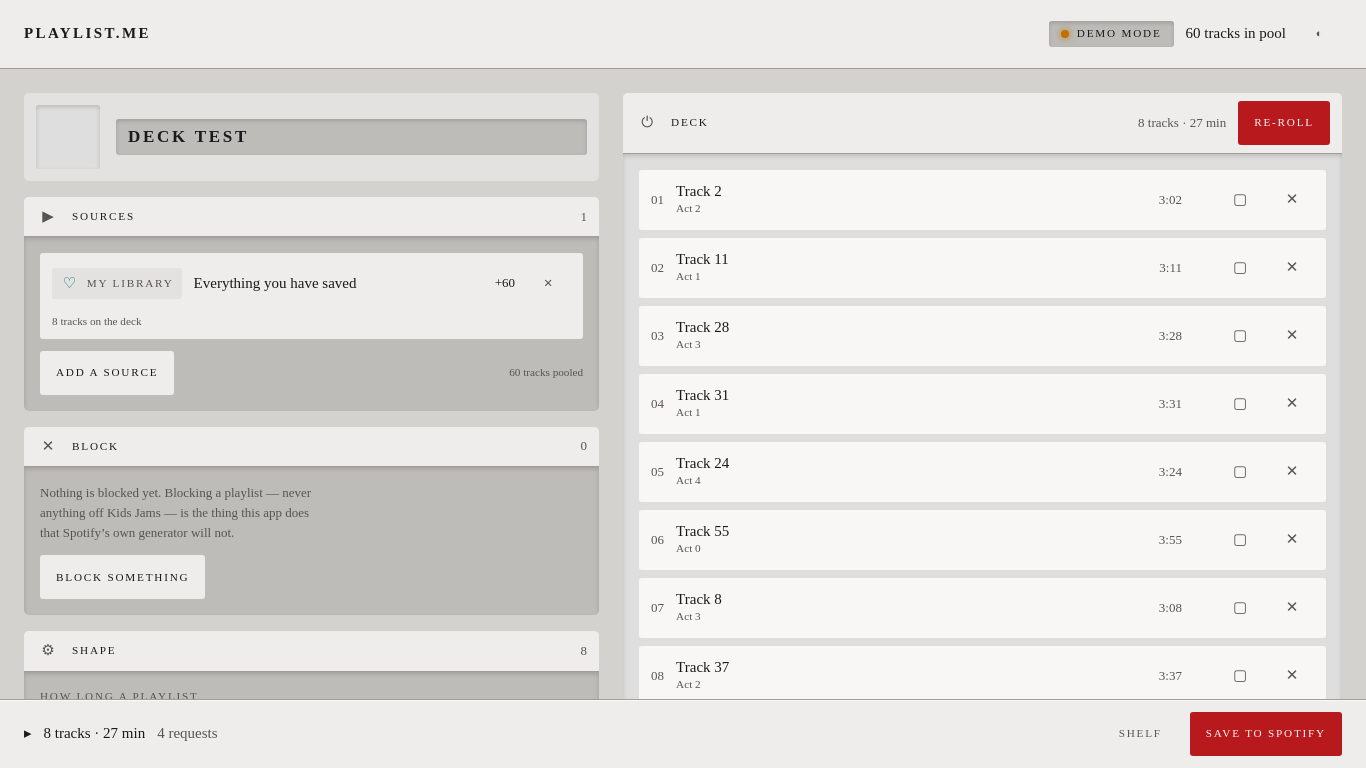
it: the tinkering loop › lights a lamp on a held slot
Click the button named "Lock Track": (1240, 200) [1218,178,1262,222]
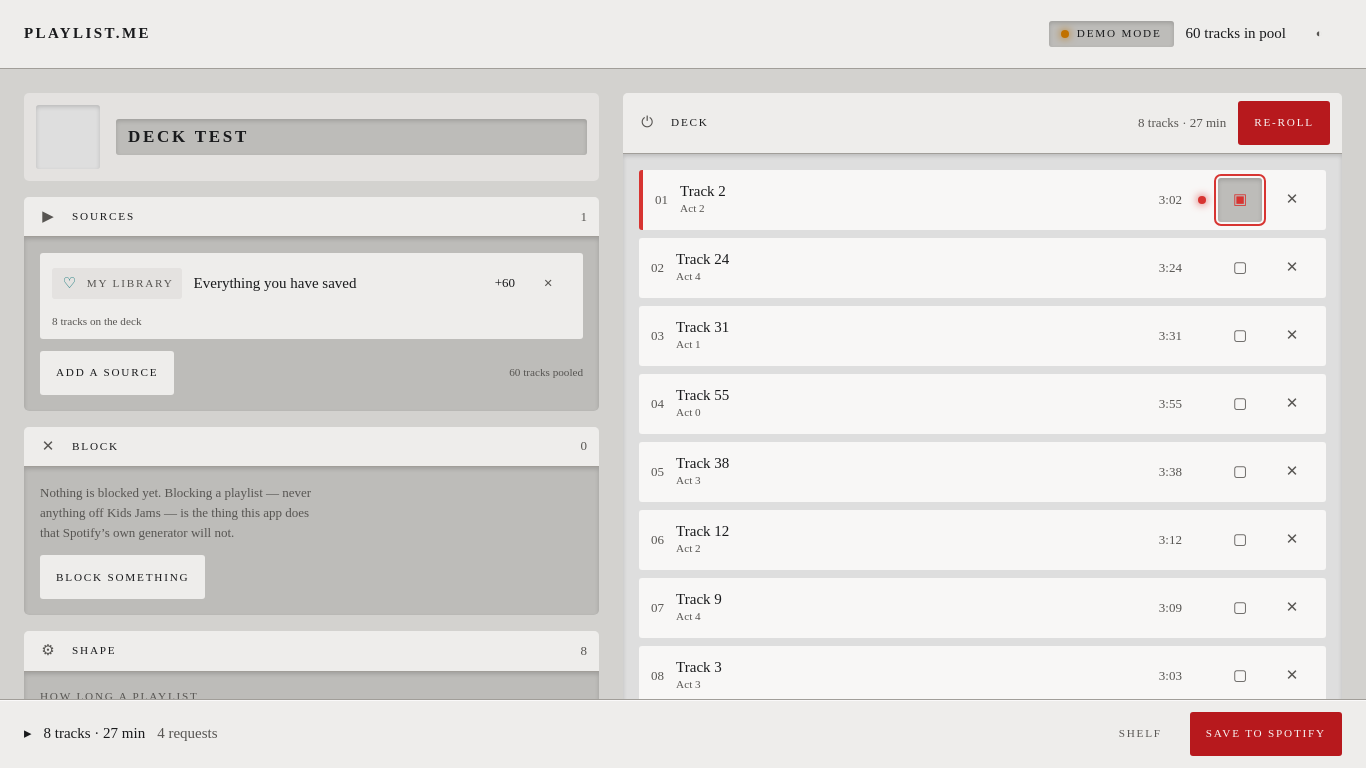
Now the element with class "led" next to "3:02" is shown, box [1198,196,1206,204]
